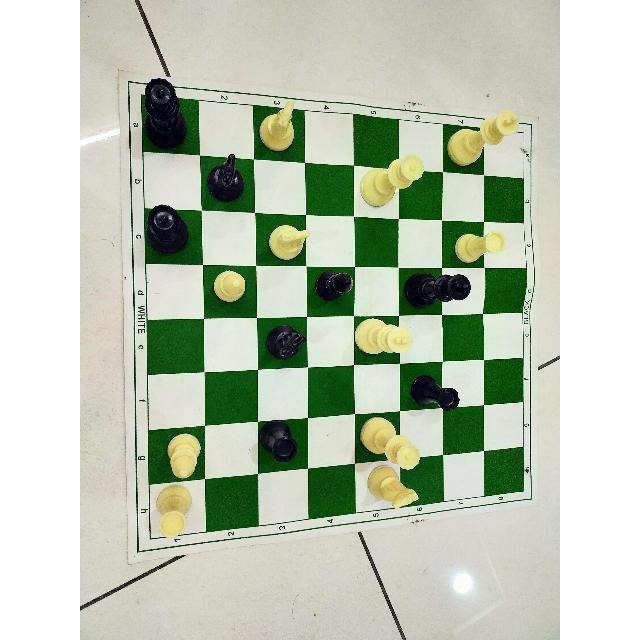black-bishop: (311, 270, 355, 302)
black-king: (403, 269, 473, 310)
black-knight: (204, 152, 245, 204), (265, 323, 307, 361)
black-queen: (136, 75, 190, 150), (143, 203, 191, 257)
black-rook: (408, 372, 460, 413), (258, 418, 300, 463)
white-bishop: (164, 430, 202, 481), (210, 267, 248, 307)
white-king: (446, 105, 524, 168), (351, 315, 414, 358)
white-knight: (364, 462, 420, 511), (258, 99, 298, 157), (266, 223, 314, 263)
white-queen: (358, 152, 426, 208), (359, 415, 422, 473)
white-rook: (153, 483, 193, 541), (453, 229, 509, 266)
